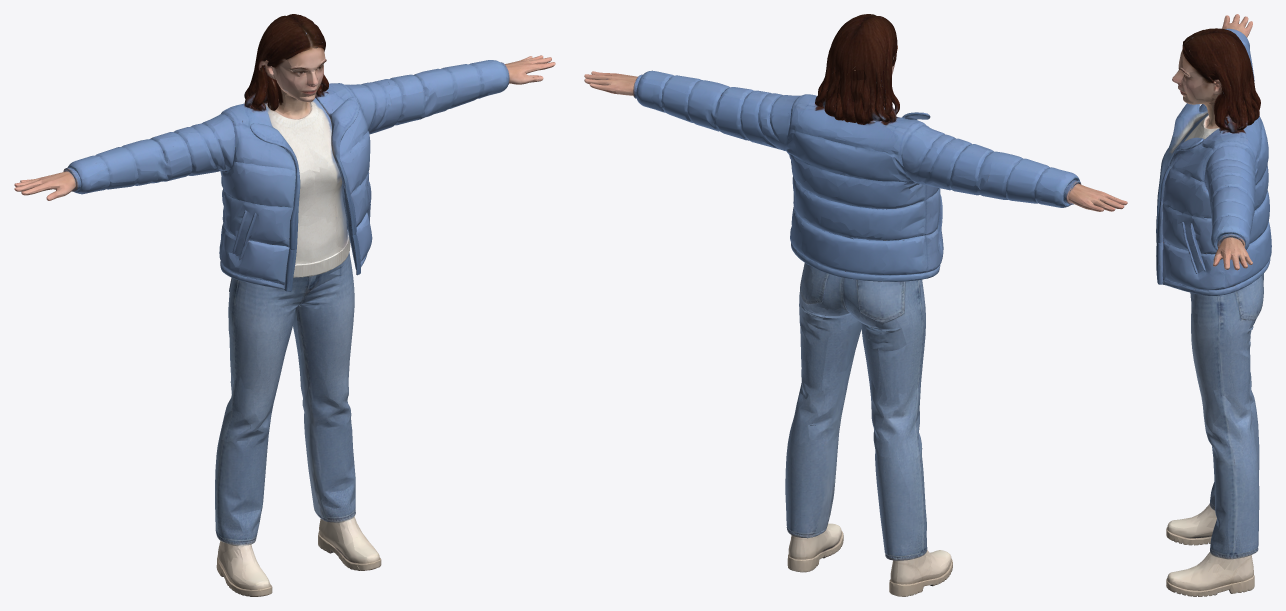
The model's file is character_n03_generated.glb.
The picture shows the model from 3 angles, left to right: view 1: azimuth 30°, elevation 25°; view 2: azimuth 150°, elevation 25°; view 3: azimuth 270°, elevation 25°; orthographic projection. The views are drawn at different scales.
Size of the model in its own units: 1.9 by 1.86 by 0.3661.
1 material, 1 textured.
